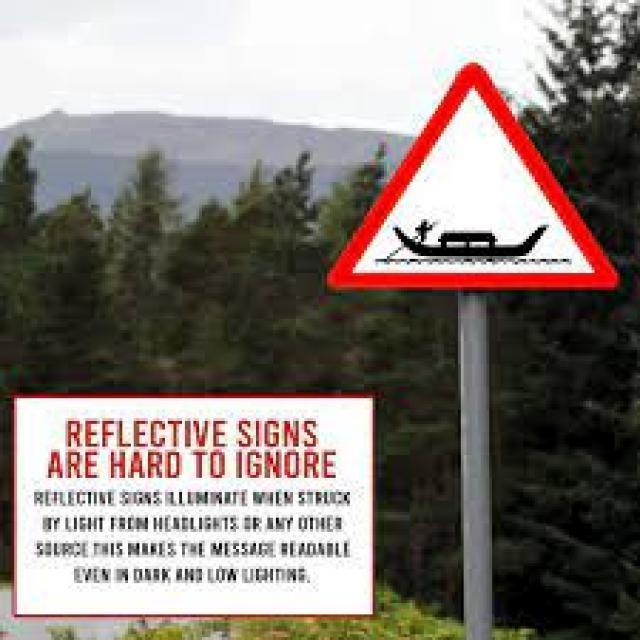Traffic sign: (320, 58, 627, 299)
